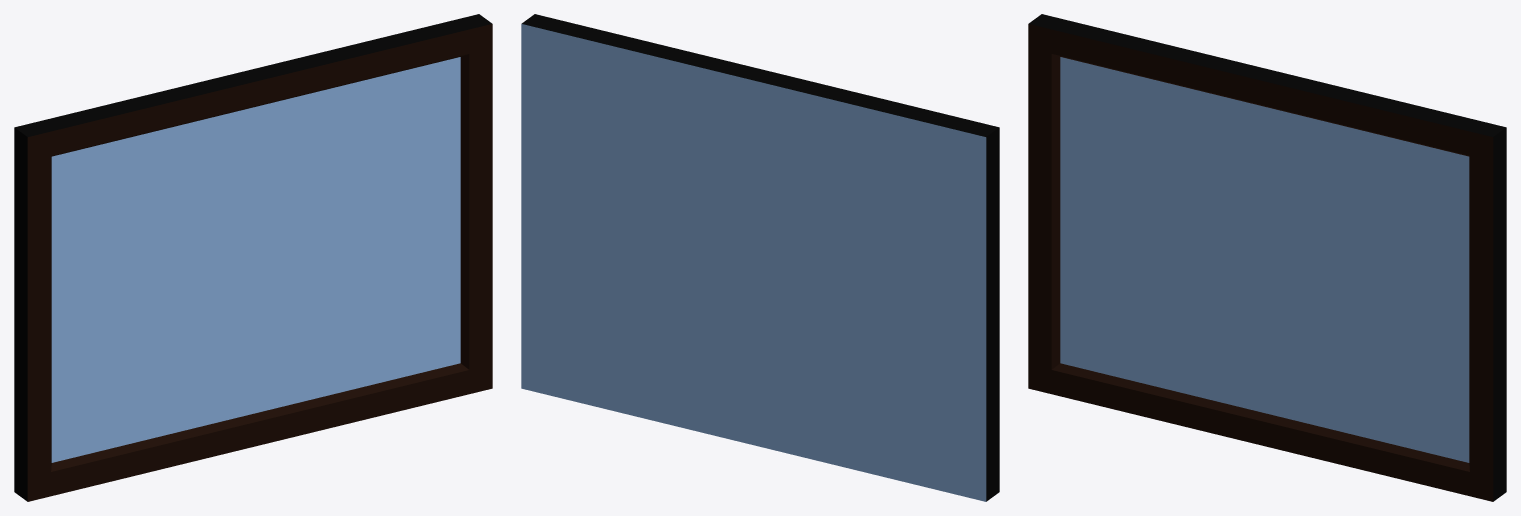
The model's file is Painting 006.FBX.
3 views of the same model, side by side, from view 1: azimuth 30°, elevation 25°; view 2: azimuth 150°, elevation 25°; view 3: azimuth 330°, elevation 25° (orthographic).
Parts seen in each view (by area): view 1: Painting 006; view 2: Painting 006; view 3: Painting 006.
Part boxes in pixels (x1,y1,x2,y2): Painting 006: [14, 14, 492, 501]; Painting 006: [521, 14, 999, 501]; Painting 006: [1028, 14, 1506, 501].
Size of the model in its own units: 2 by 1.5 by 0.1.
